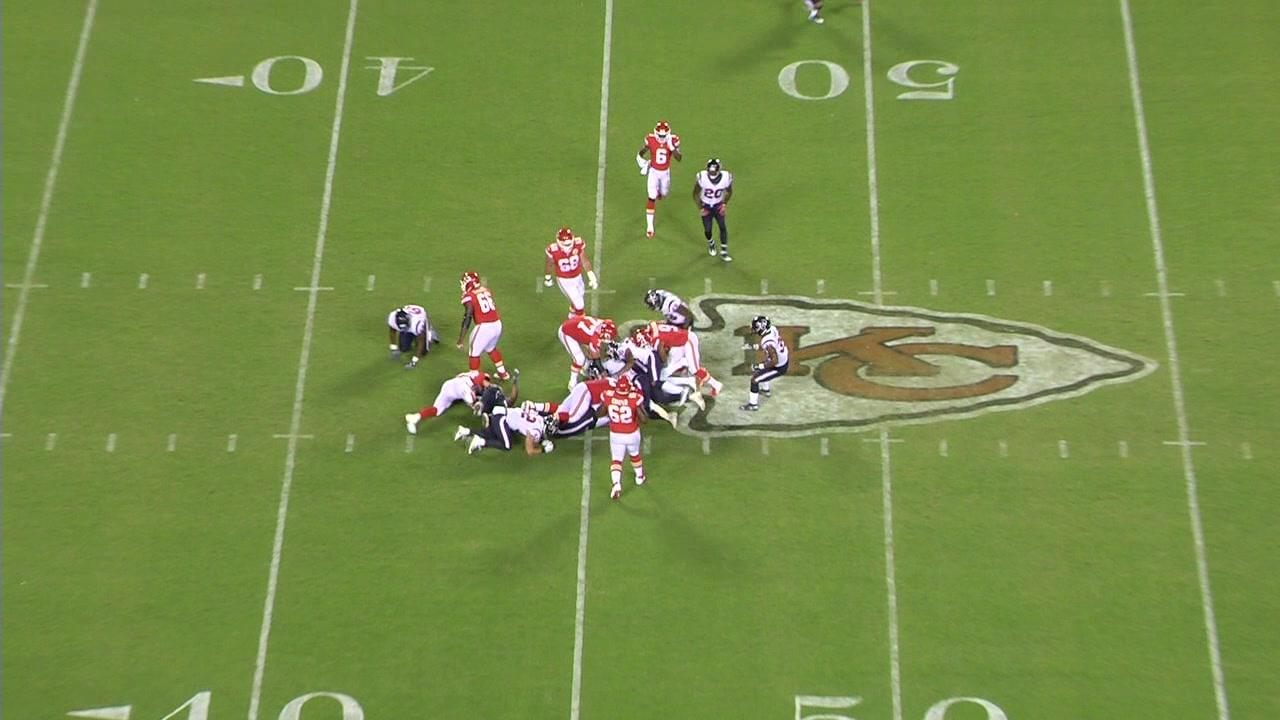five_hash: (0, 280, 55, 291), (269, 430, 319, 442), (1139, 289, 1189, 301), (291, 283, 339, 295), (1158, 438, 1212, 448), (856, 288, 902, 298), (861, 435, 907, 445), (580, 288, 623, 297)
hash: (357, 269, 382, 294), (132, 270, 156, 296), (41, 427, 62, 455), (101, 428, 122, 455), (1054, 435, 1074, 463), (982, 275, 1002, 300), (224, 432, 244, 457), (1039, 276, 1059, 300), (933, 437, 953, 461), (76, 268, 97, 290), (337, 432, 358, 454), (697, 274, 717, 297), (696, 435, 716, 458), (815, 434, 834, 458), (191, 271, 211, 293), (250, 271, 269, 294), (163, 432, 181, 455), (755, 277, 775, 297), (813, 277, 830, 300), (926, 274, 942, 297), (530, 274, 546, 296), (758, 434, 773, 456)
number: (773, 51, 966, 110), (248, 47, 443, 102)
